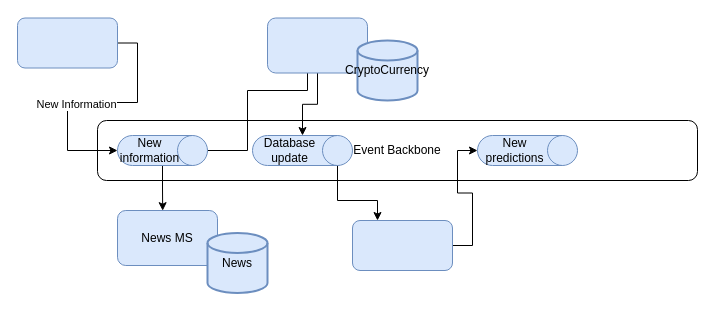
This 715x311 diagram has some shape labels left out. Each missing label, with the centre of its shape:
"Crypto Historic MS" goes at point 317,45.
"Information retrieval MS" goes at point 67,42.
"Machine learning module" goes at point 402,245.
